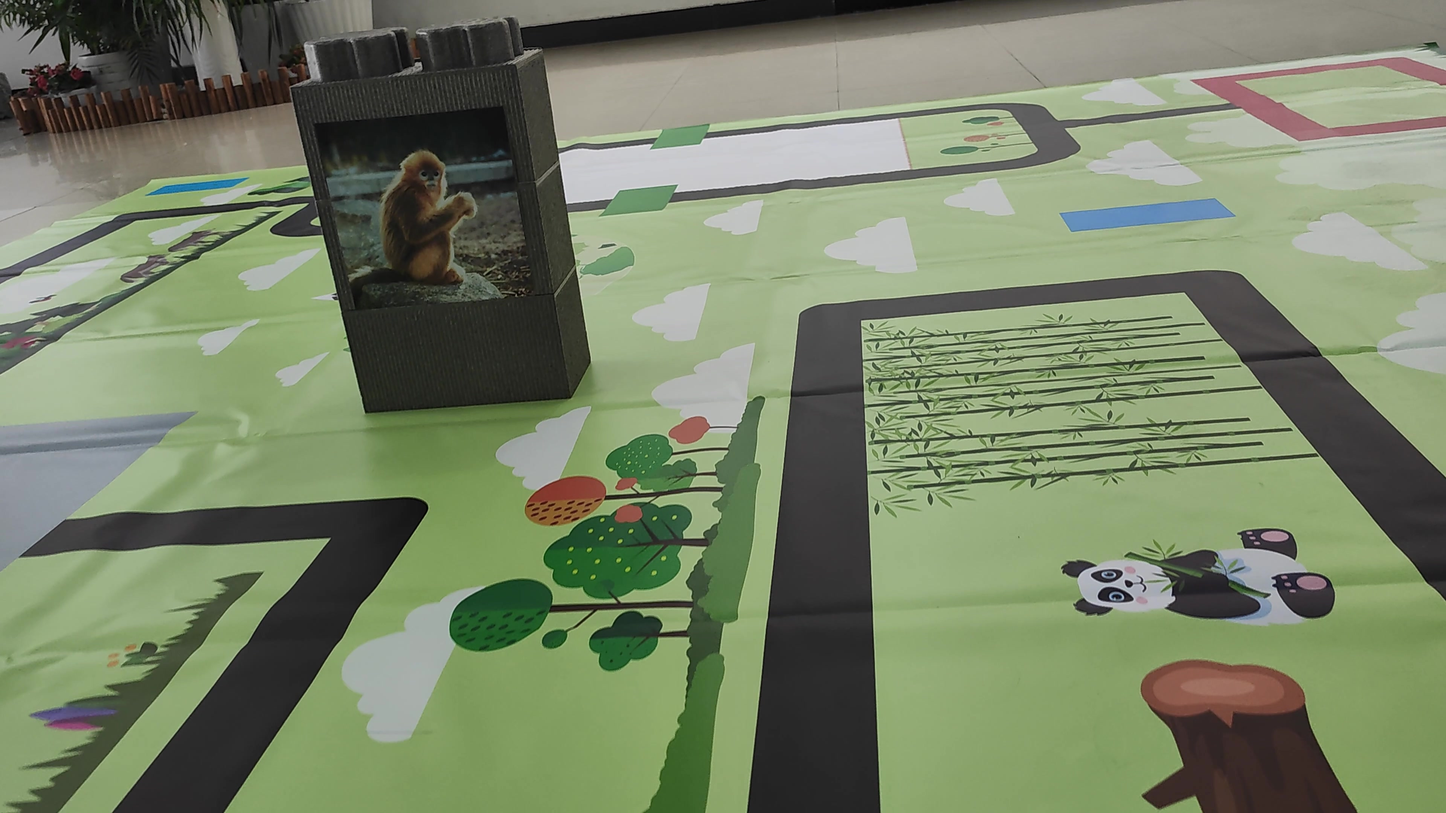monkey: (334, 135, 499, 302)
